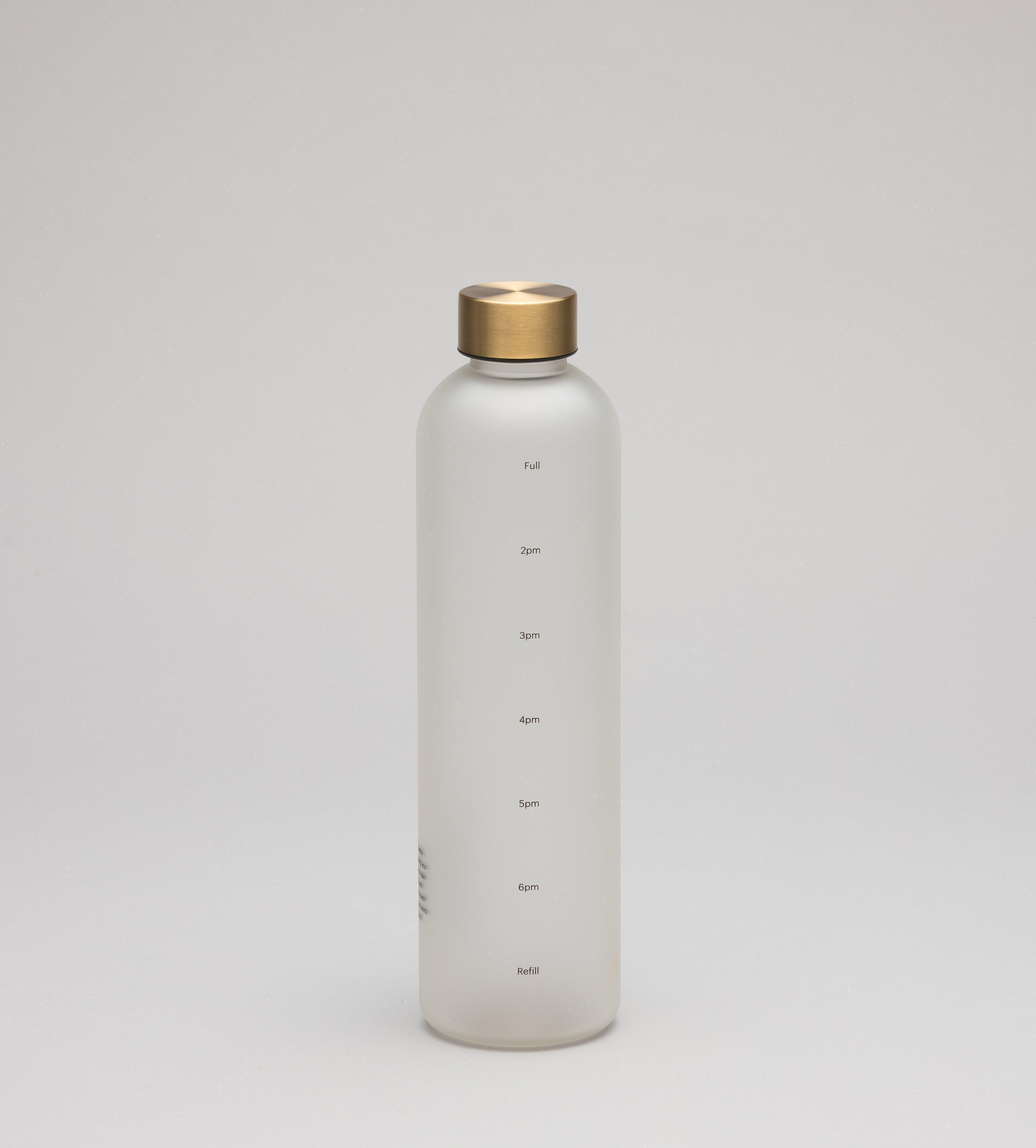gym bottle: (407, 277, 632, 1058)
